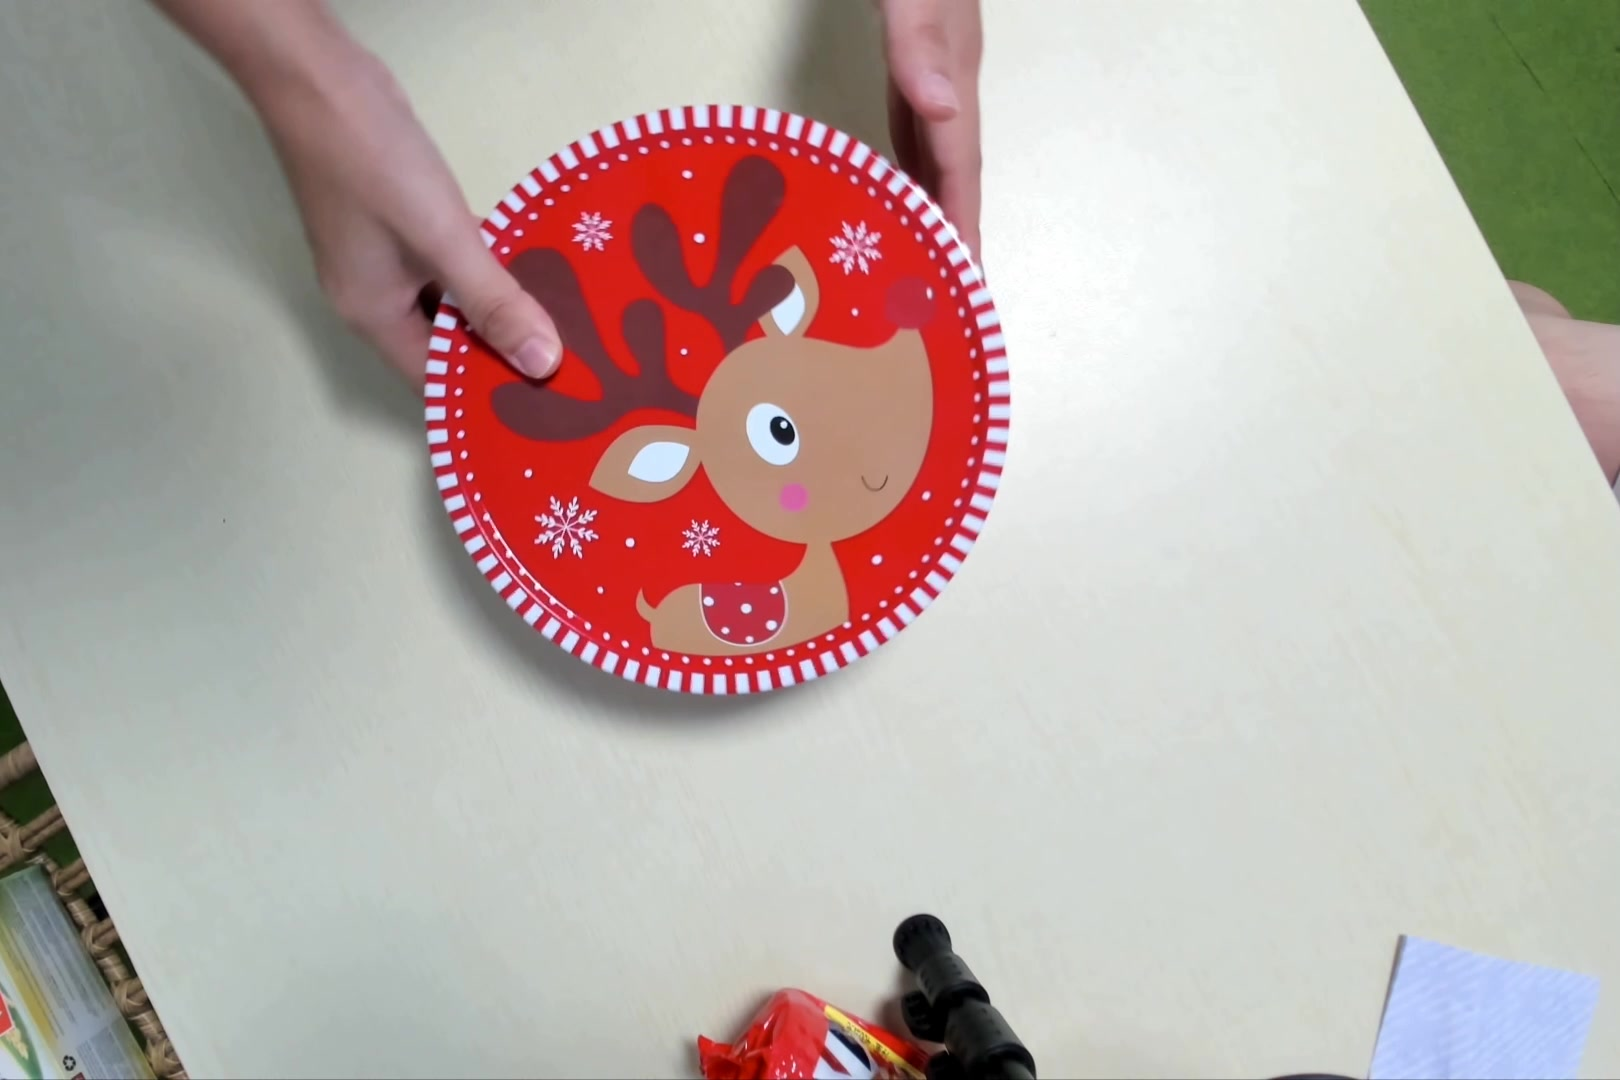BiscuitsCrackersCookies_400-499g_NonHalal_NonHealthy: (422, 104, 1019, 700)
